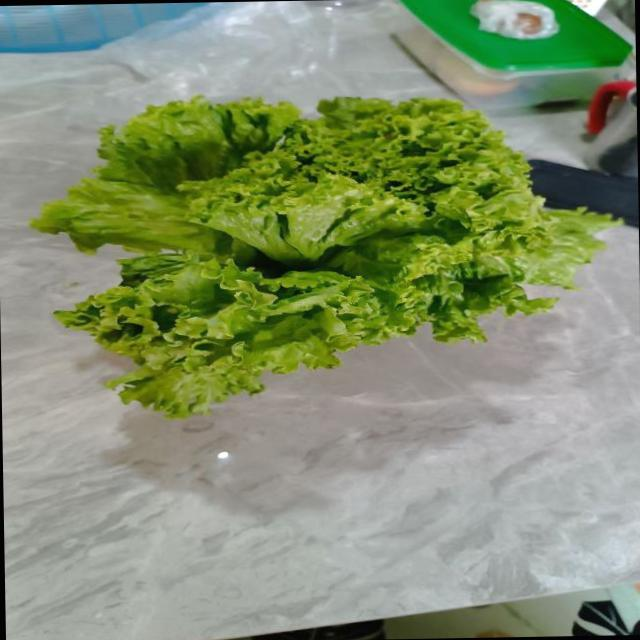Lettuce-Ready-to-Harvest: (32, 97, 615, 416)
